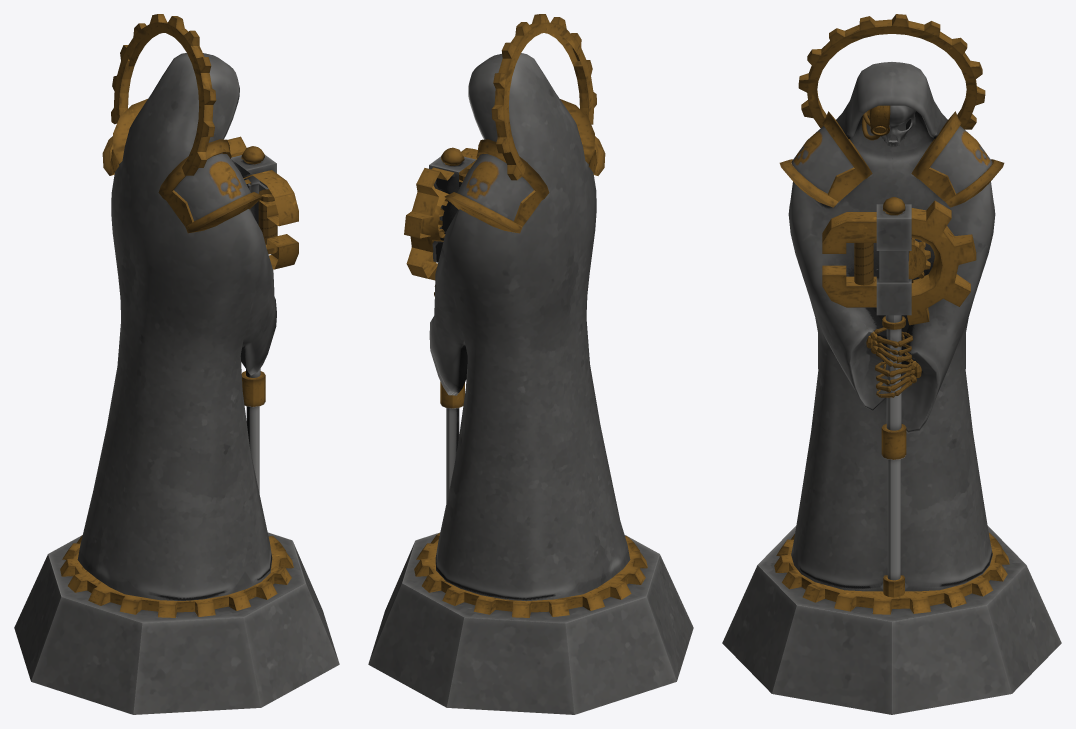
Rendered from Statue.glb.
3 renders of one model, left to right at view 1: azimuth 30°, elevation 25°; view 2: azimuth 150°, elevation 25°; view 3: azimuth 270°, elevation 25°, orthographic.
Visible parts, largest first — view 1: BaseGorda; view 2: BaseGorda; view 3: BaseGorda.
Boxes of the visible parts, x1,y1,x2,y2 form: BaseGorda: [14, 14, 339, 714]; BaseGorda: [368, 14, 693, 714]; BaseGorda: [722, 14, 1061, 714].
Size of the model in its own units: 21.93 by 44.9 by 21.93.
Materials: 1 (1 with a texture image).
